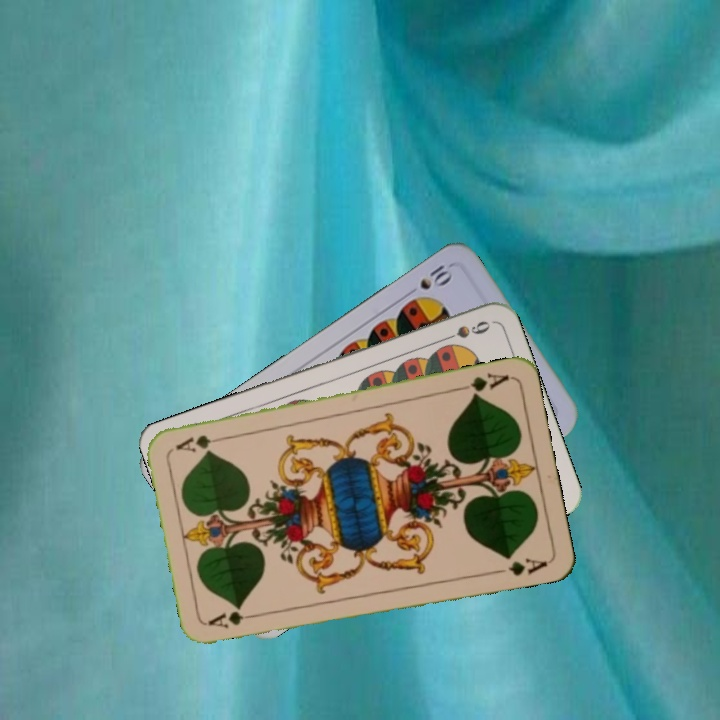GA: (454, 369, 512, 399), (204, 608, 264, 631)
S10: (415, 258, 456, 293)
S9: (435, 316, 493, 345)
